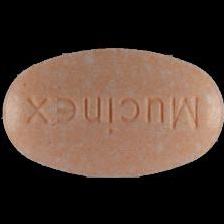68258-3035: (0, 0, 224, 224)
